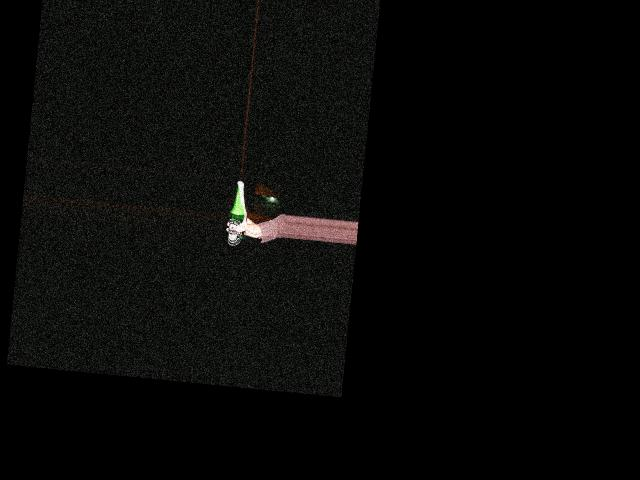beer: (225, 183, 249, 248)
